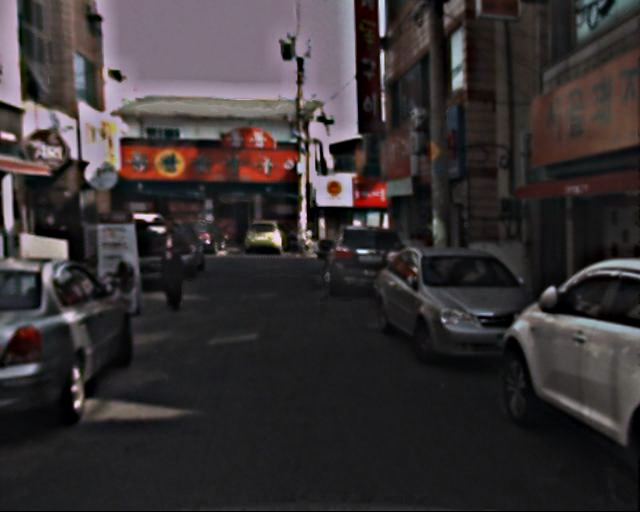person: (153, 215, 195, 310)
